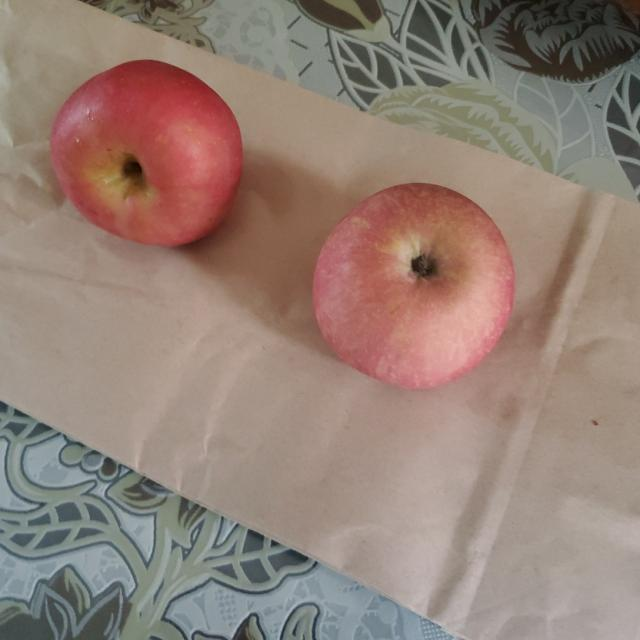apple: (314, 183, 515, 388), (51, 58, 242, 245)
